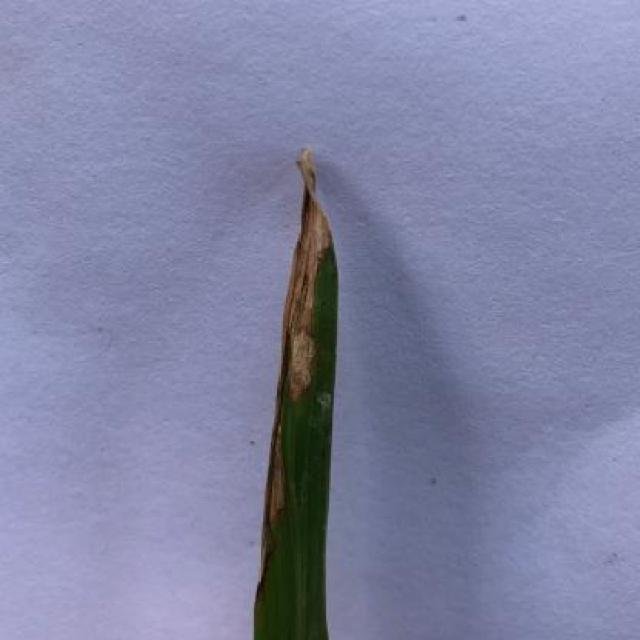Brown_Spot: (250, 137, 345, 640)
